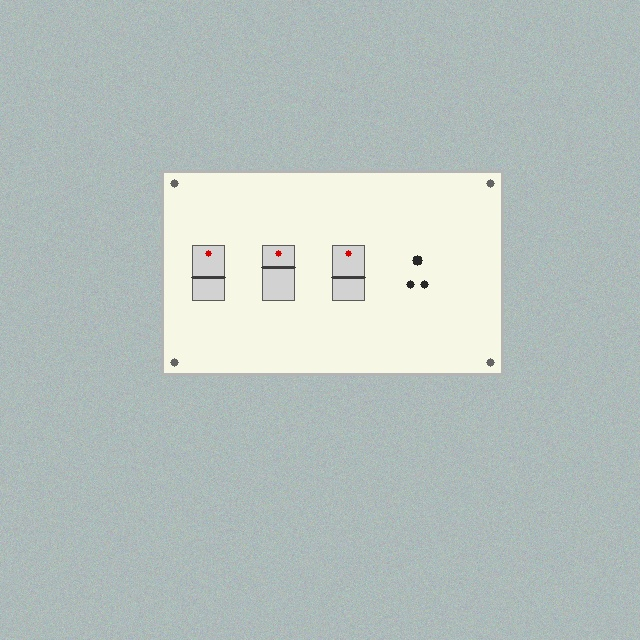switchboard: (162, 171, 502, 374)
